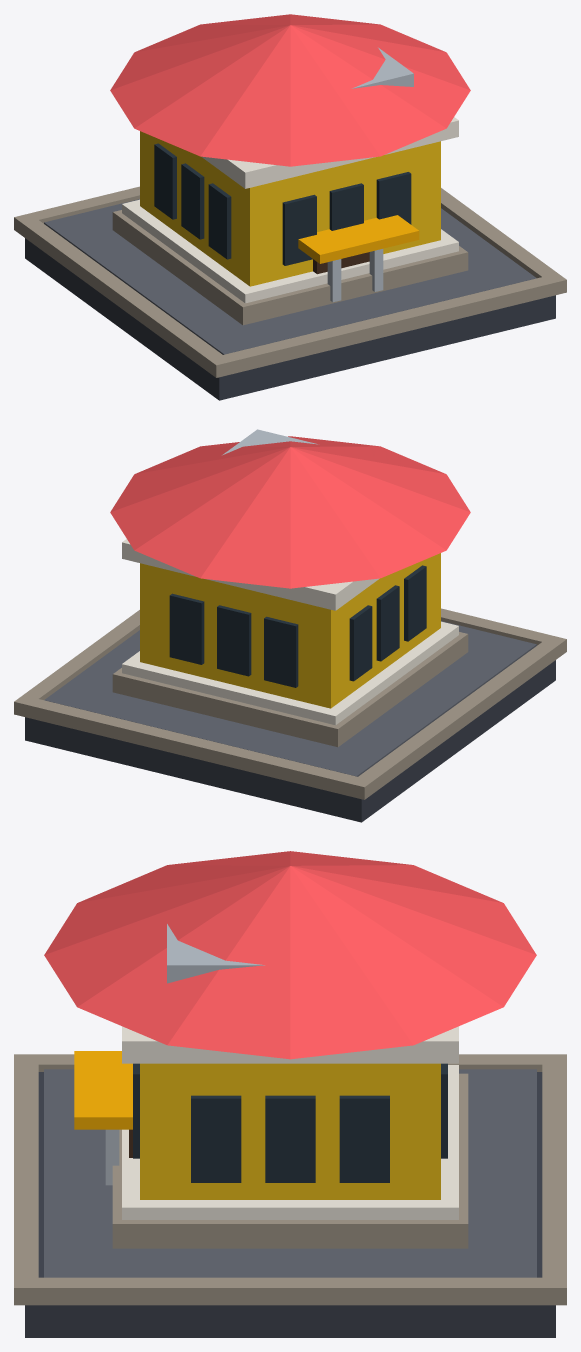
Rendered from city.shop_tea.glb.
3 views of the same model, one above another, from view 1: azimuth 30°, elevation 25°; view 2: azimuth 150°, elevation 25°; view 3: azimuth 270°, elevation 25° (orthographic). The views are drawn at different scales.
Parts seen in each view (by area): view 1: city.shop_tea; view 2: city.shop_tea; view 3: city.shop_tea.
Part boxes in pixels (x1,y1,x2,y2): city.shop_tea: [14, 14, 566, 400]; city.shop_tea: [14, 429, 566, 822]; city.shop_tea: [14, 851, 566, 1337].
Size of the model in its own units: 2.02 by 1.45 by 2.02.
